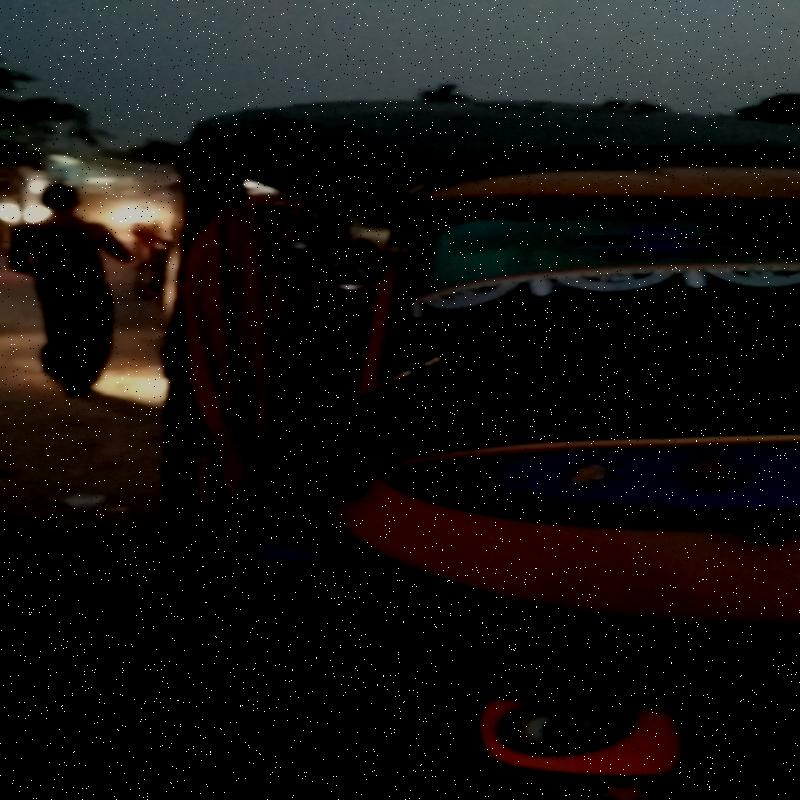auto: (204, 179, 800, 799)
